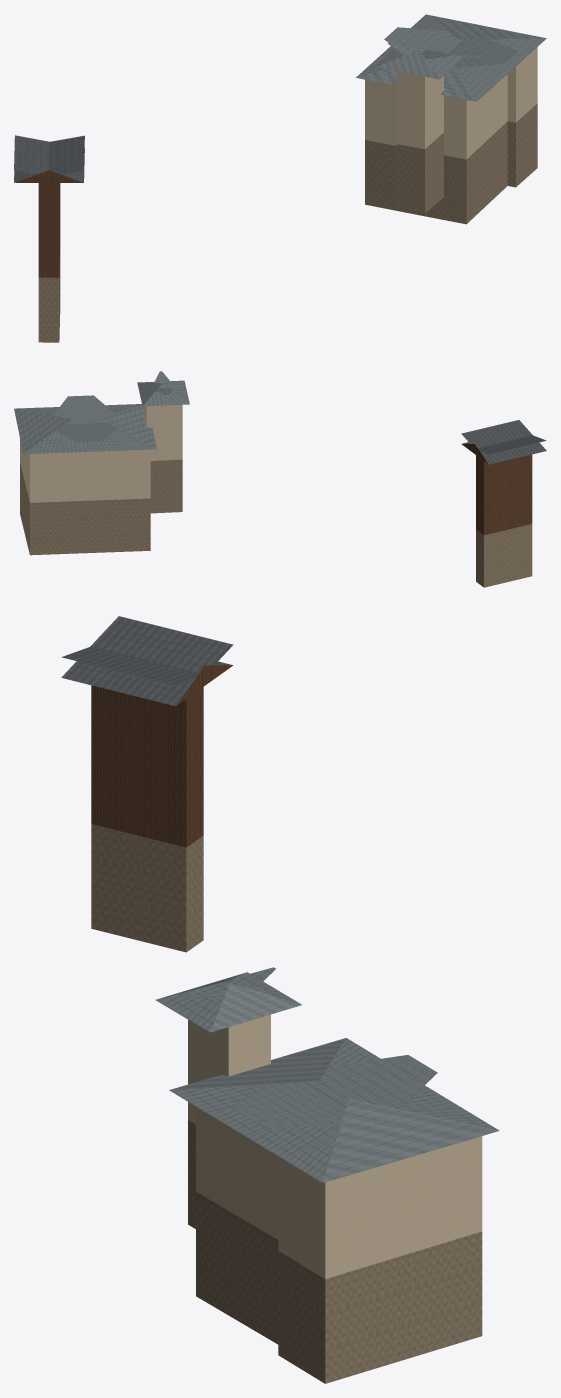
The model's file is bld_c19_30_371.gltf.
The picture shows the model from 3 angles, top to bottom: view 1: azimuth 30°, elevation 25°; view 2: azimuth 150°, elevation 25°; view 3: azimuth 270°, elevation 25°; orthographic projection. The views are drawn at different scales.
Parts seen in each view (by area): view 1: bld_c19_30_371; view 2: bld_c19_30_371; view 3: bld_c19_30_371.
Part boxes in pixels (x1,y1,x2,y2): bld_c19_30_371: [14, 14, 546, 342]; bld_c19_30_371: [14, 371, 546, 587]; bld_c19_30_371: [61, 616, 499, 1383].
Size of the model in its own units: 49.11 by 14.8 by 19.35.
6 materials, 6 textured.
